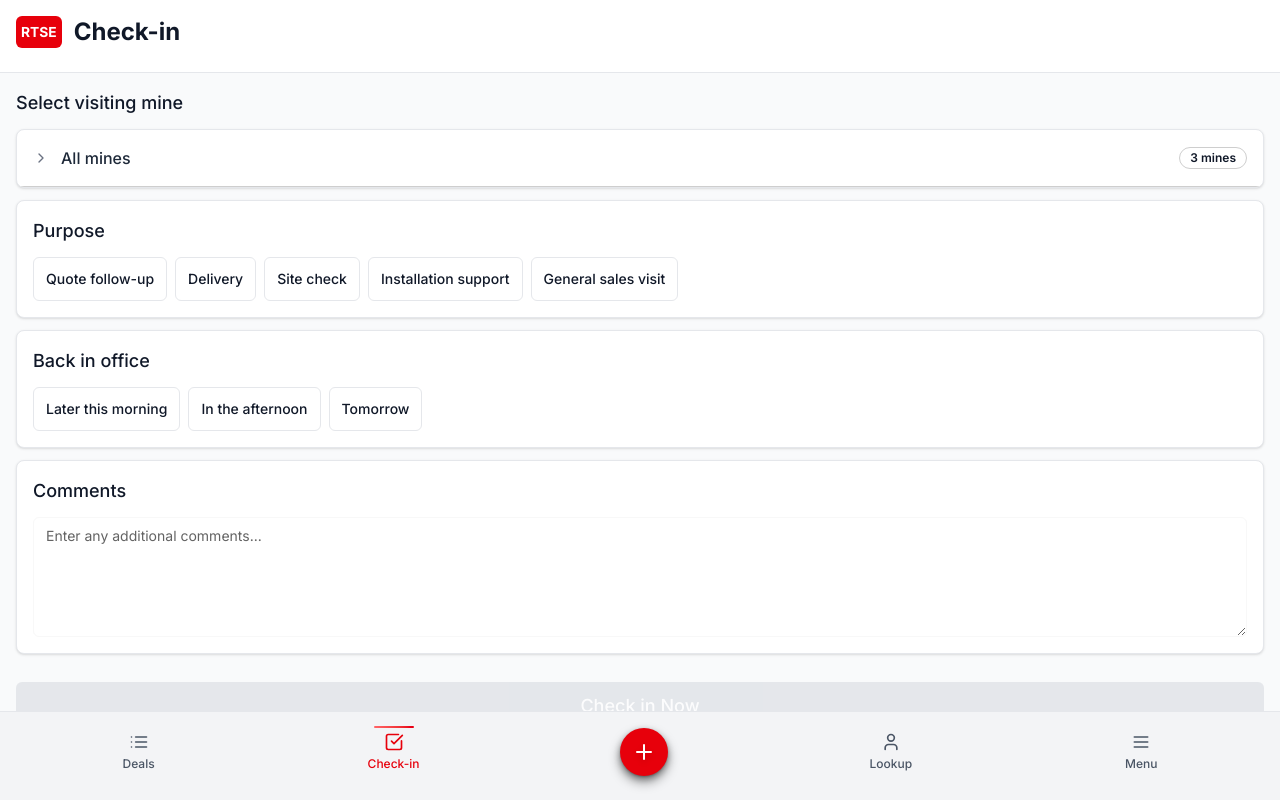
Test case: CheckInPage › enables check-in button when all required fields are filled
The image size is (1280, 800).
# Fill in all required fields
Click the heading "All mines": coordinates (96, 158) [61, 146, 131, 170]
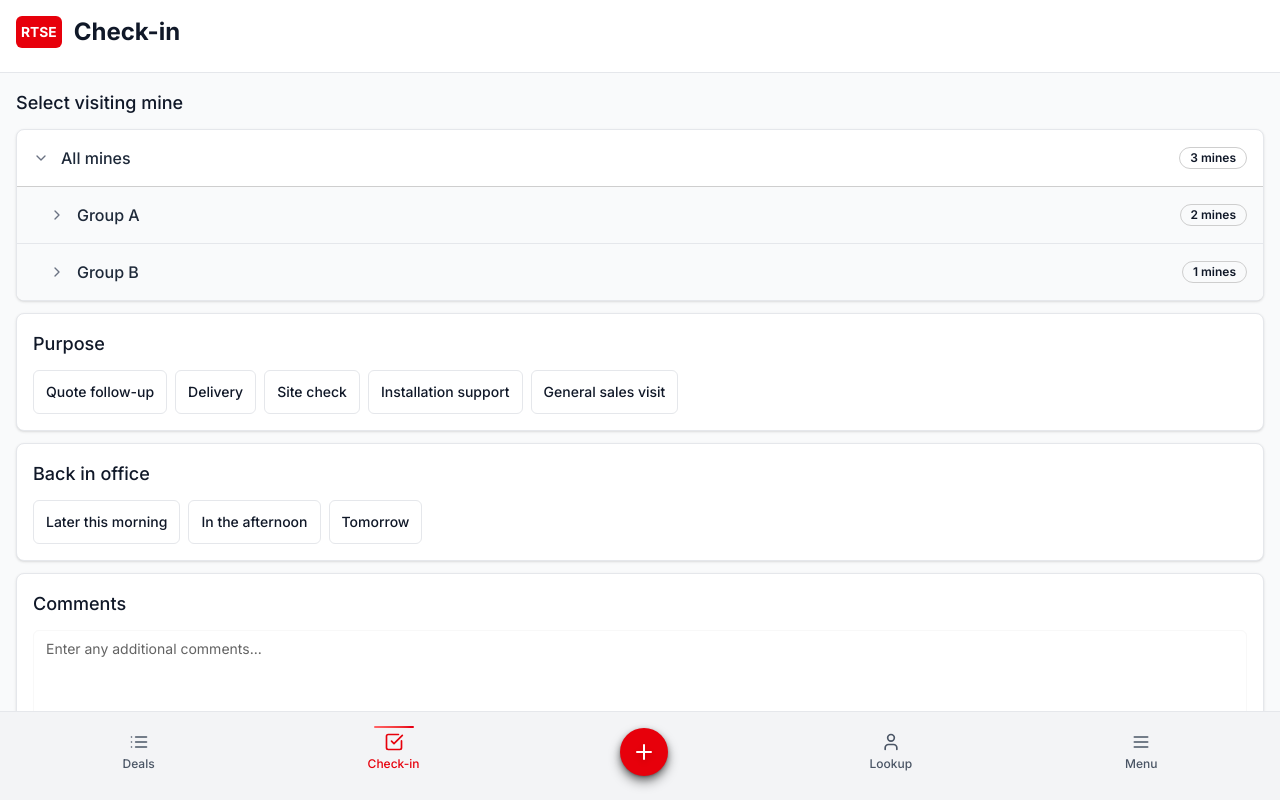
# Wait for mine groups to appear and expand Group A
Click the heading "Group A": coordinates (108, 215) [77, 203, 140, 227]
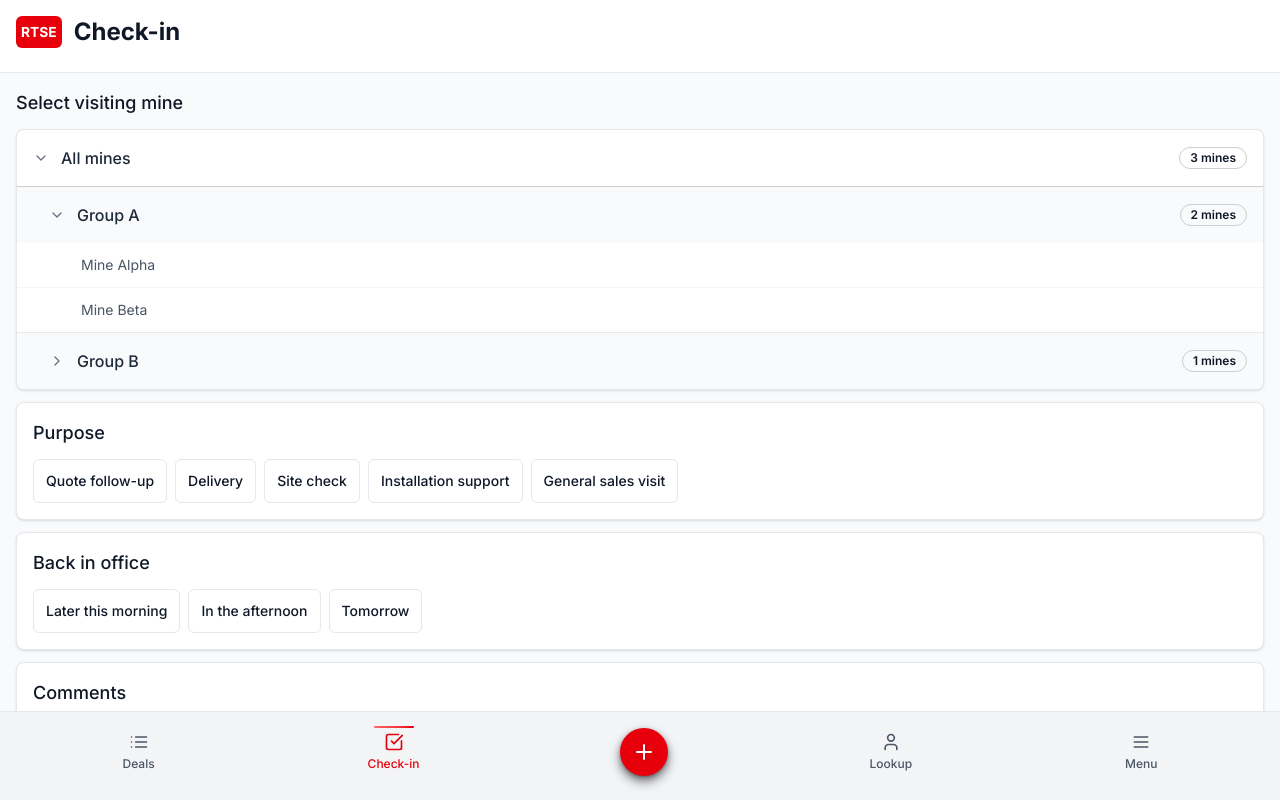
# Wait for individual mines to appear and select Mine Alpha
Click the text "Mine Alpha": coordinates (118, 265) [81, 255, 155, 275]
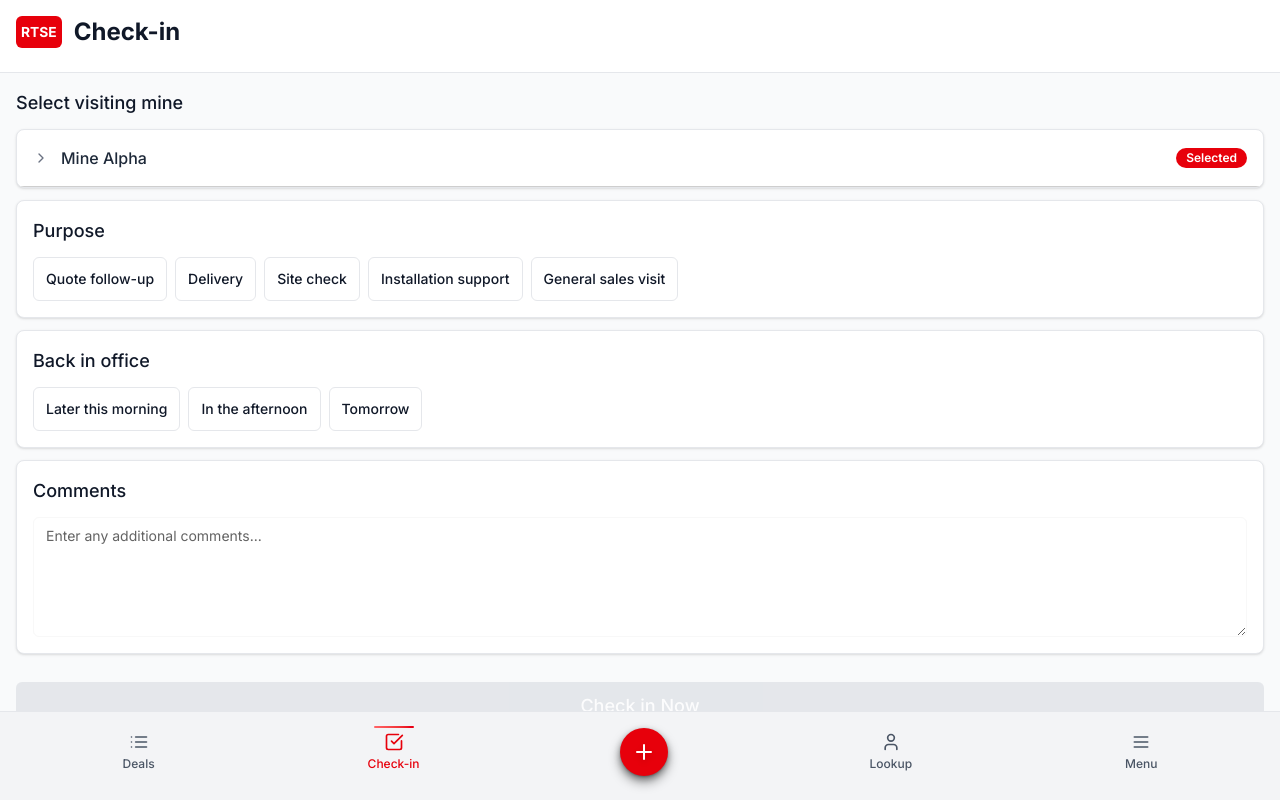
# Select purpose
Click the button "Quote follow-up": coordinates (100, 279) [33, 257, 167, 301]
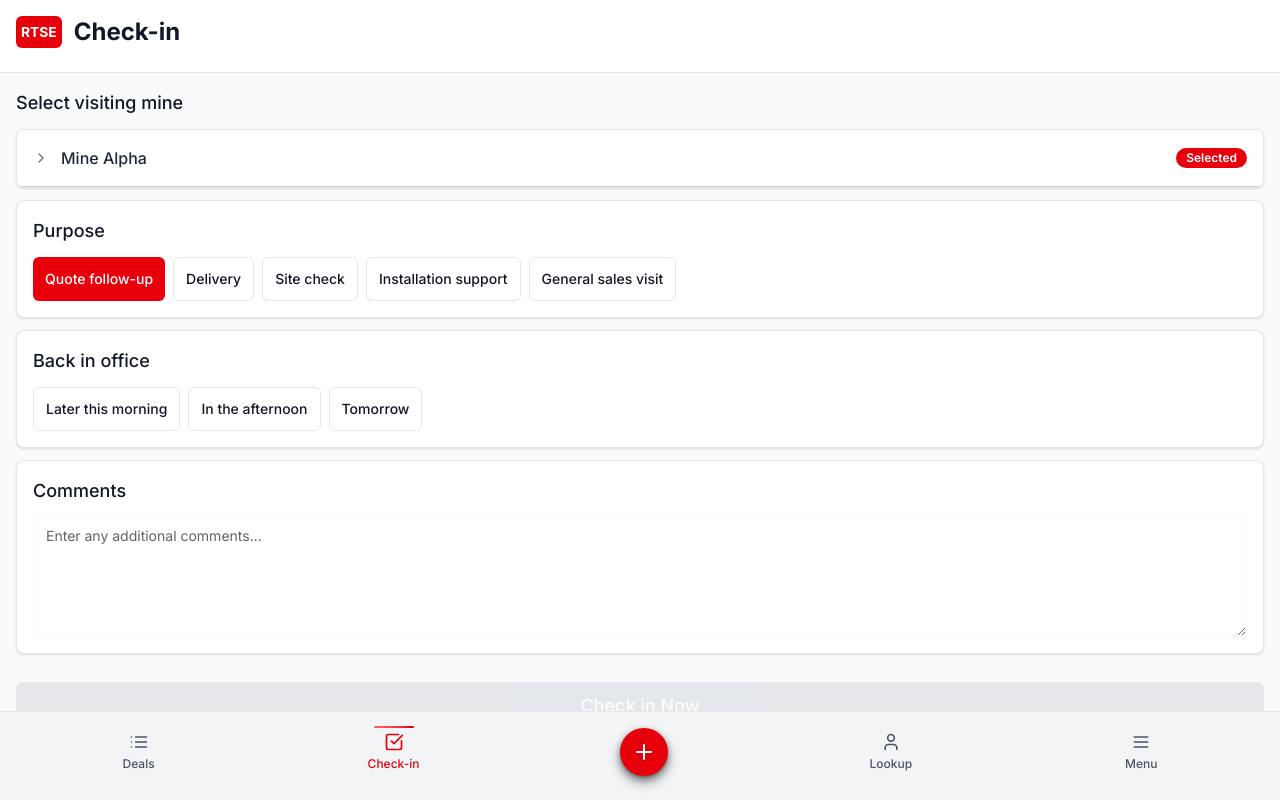
# Select back in office time
Click the button "Later this morning": coordinates (107, 409) [33, 387, 180, 431]
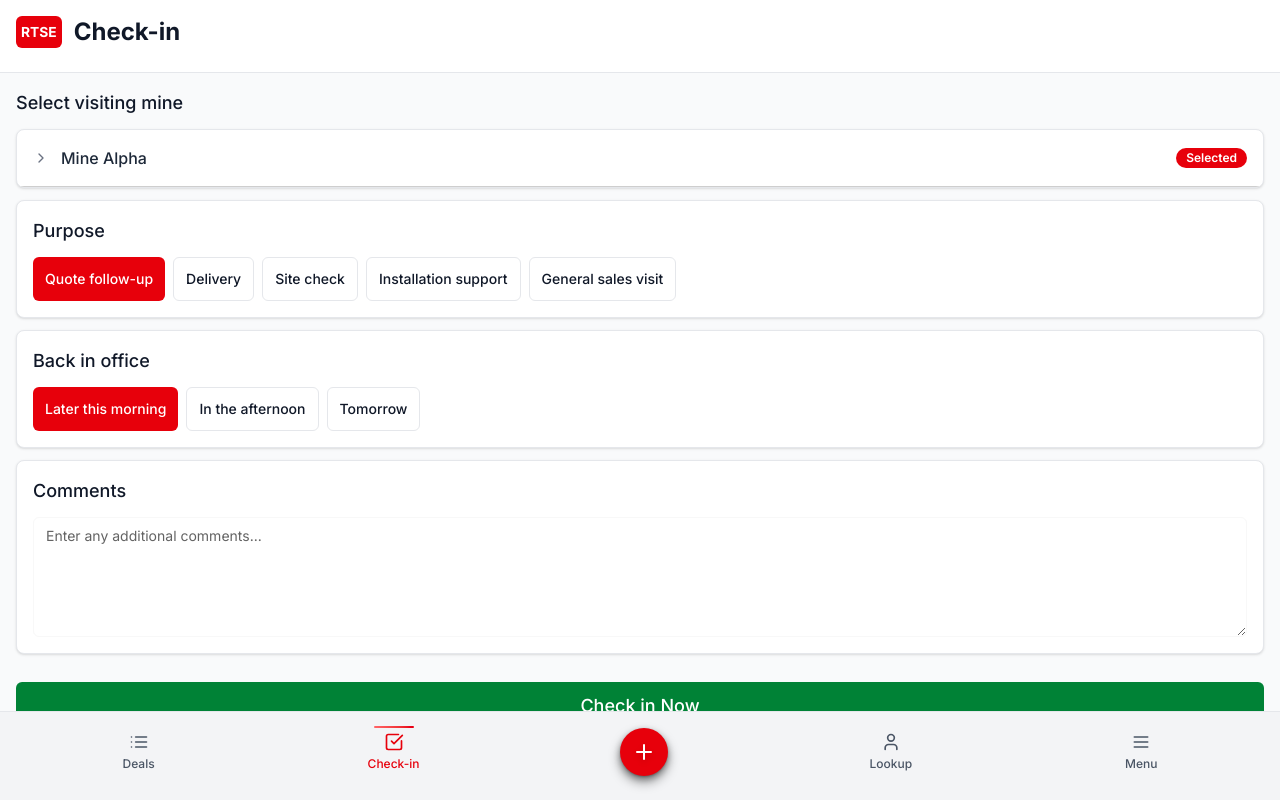
Check: the button "Check in Now" is enabled, box [16, 682, 1264, 730]
